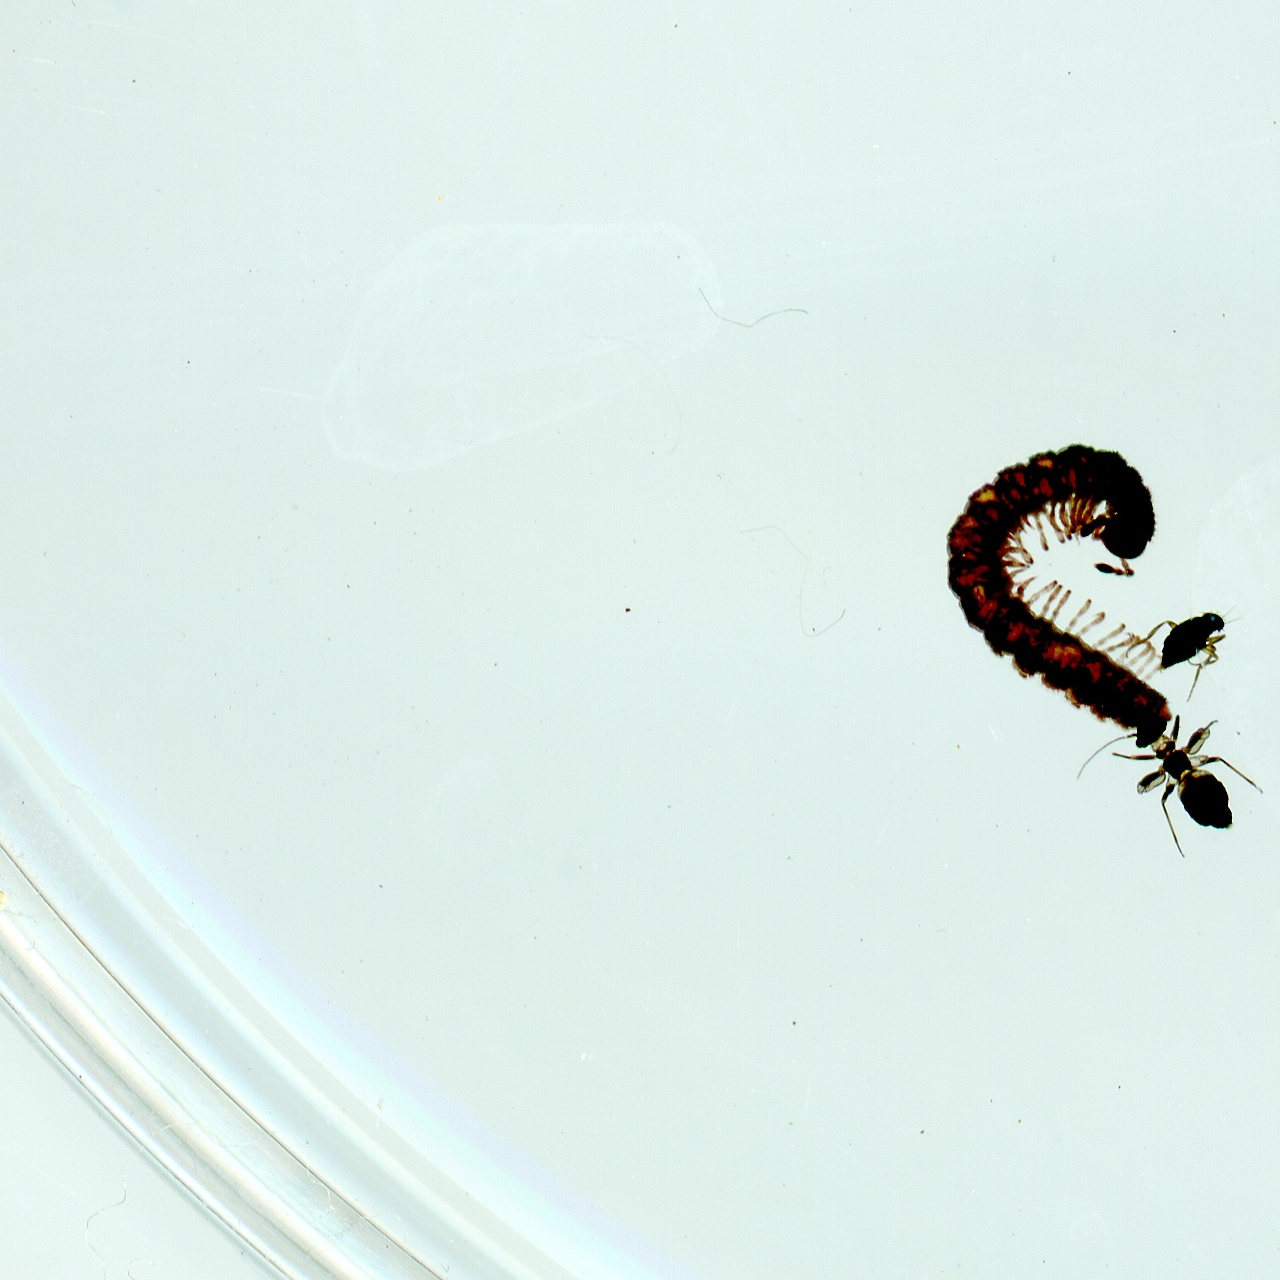arthropod: (934, 435, 1182, 737), (1063, 674, 1280, 890), (1119, 595, 1253, 707)
